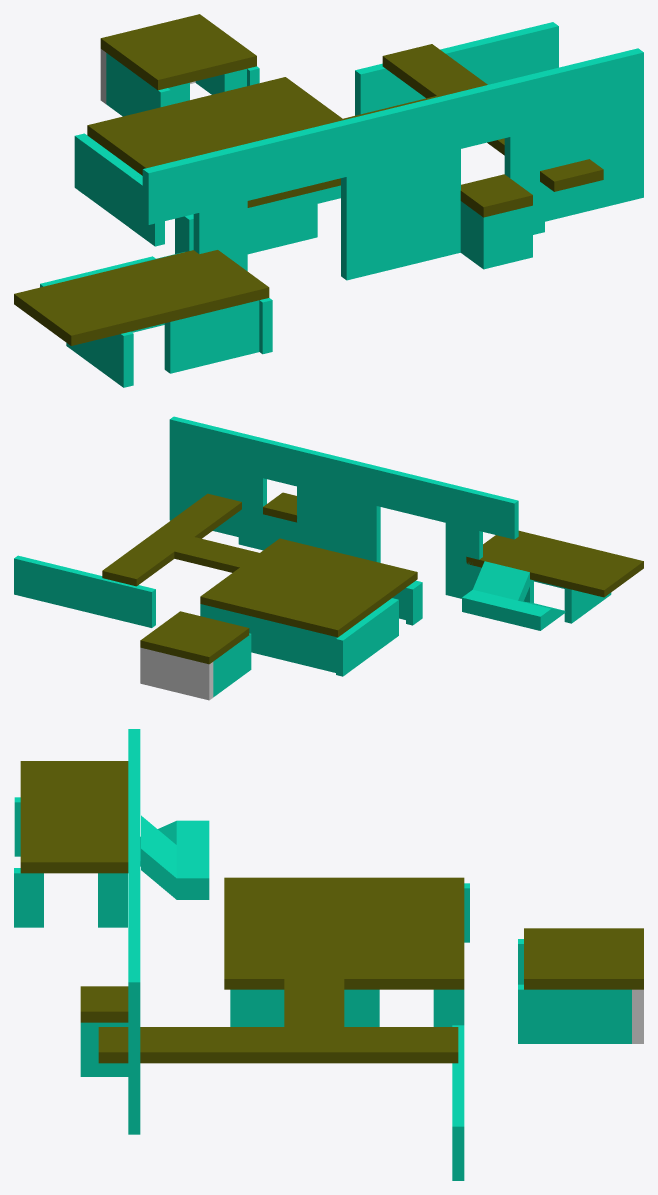
File: 花村结构.gltf
3 views of the same model, one above another, from view 1: azimuth 30°, elevation 25°; view 2: azimuth 150°, elevation 25°; view 3: azimuth 270°, elevation 25° (orthographic). The views are drawn at different scales.
Visible parts, largest first — view 1: 立方体.052, 立方体.059, 立方体.050, 立方体.051, 立方体.065, 立方体.037, 立方体.048, 立方体.070, 立方体.066, 立方体.069, 立方体.063, 立方体.005 (+29 smaller); view 2: 立方体.071, 立方体.052, 立方体.068, 立方体.050, 立方体.051, 立方体.059, 立方体.065, 立方体.069, 立方体.001, 立方体.048, 立方体.013, 立方体.066 (+31 smaller); view 3: 立方体.003, 立方体.071, 立方体.054, 立方体.055, 立方体.064, 立方体.062, 立方体.027, 立方体.030, 立方体.034, 立方体.004, 立方体.005, 立方体.028 (+24 smaller).
Part boxes in pixels (x1=…): 立方体.052: x1=142, y1=145, x2=247, y2=224; 立方体.059: x1=440, y1=72, x2=544, y2=152; 立方体.050: x1=341, y1=96, x2=445, y2=176; 立方体.051: x1=242, y1=121, x2=346, y2=200; 立方体.065: x1=539, y1=48, x2=643, y2=128; 立方体.037: x1=341, y1=204, x2=445, y2=280; 立方体.048: x1=341, y1=152, x2=445, y2=228; 立方体.070: x1=164, y1=300, x2=259, y2=373; 立方体.066: x1=545, y1=104, x2=643, y2=169; 立方体.069: x1=454, y1=22, x2=558, y2=84; 立方体.063: x1=42, y1=290, x2=170, y2=345; 立方体.005: x1=129, y1=35, x2=256, y2=90; 立方体.071: x1=462, y1=561, x2=565, y2=630; 立方体.052: x1=445, y1=484, x2=518, y2=539; 立方体.068: x1=83, y1=572, x2=155, y2=627; 立方体.050: x1=307, y1=450, x2=379, y2=505; 立方体.051: x1=376, y1=467, x2=449, y2=522; 立方体.059: x1=238, y1=433, x2=311, y2=488; 立方体.065: x1=169, y1=416, x2=241, y2=472; 立方体.069: x1=14, y1=555, x2=86, y2=611; 立方体.001: x1=140, y1=647, x2=213, y2=700; 立方体.048: x1=307, y1=489, x2=380, y2=541; 立方体.013: x1=276, y1=622, x2=348, y2=674; 立方体.066: x1=169, y1=455, x2=238, y2=500; 立方体.003: x1=518, y1=984, x2=631, y2=1043; 立方体.071: x1=140, y1=815, x2=209, y2=899; 立方体.054: x1=338, y1=1027, x2=458, y2=1063; 立方体.055: x1=218, y1=1027, x2=338, y2=1063; 立方体.064: x1=98, y1=1027, x2=218, y2=1063; 立方体.062: x1=20, y1=811, x2=80, y2=873; 立方体.027: x1=404, y1=928, x2=464, y2=989; 立方体.030: x1=344, y1=928, x2=404, y2=989; 立方体.034: x1=224, y1=928, x2=284, y2=989; 立方体.004: x1=584, y1=928, x2=643, y2=989; 立方体.005: x1=524, y1=928, x2=583, y2=989; 立方体.028: x1=404, y1=877, x2=464, y2=928.
Size of what is drawn, in the model's own units: 70 by 15 by 52.55.
